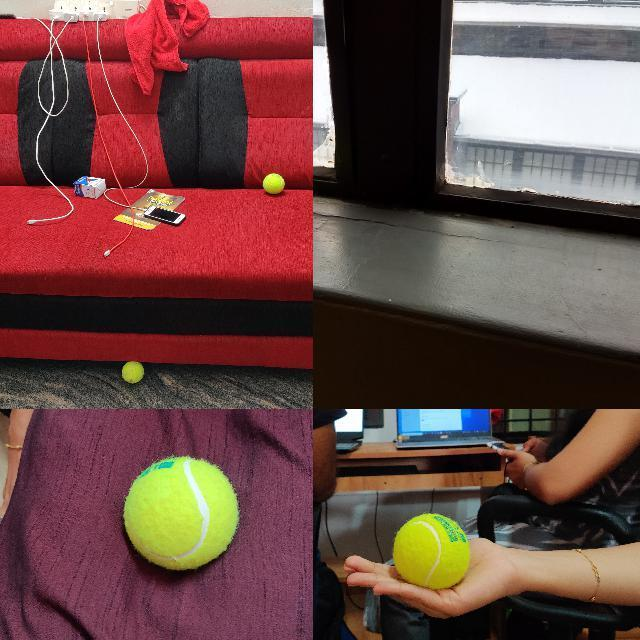tennis-ball: (124, 458, 236, 569), (394, 515, 469, 589), (121, 361, 143, 383), (262, 173, 284, 194)
